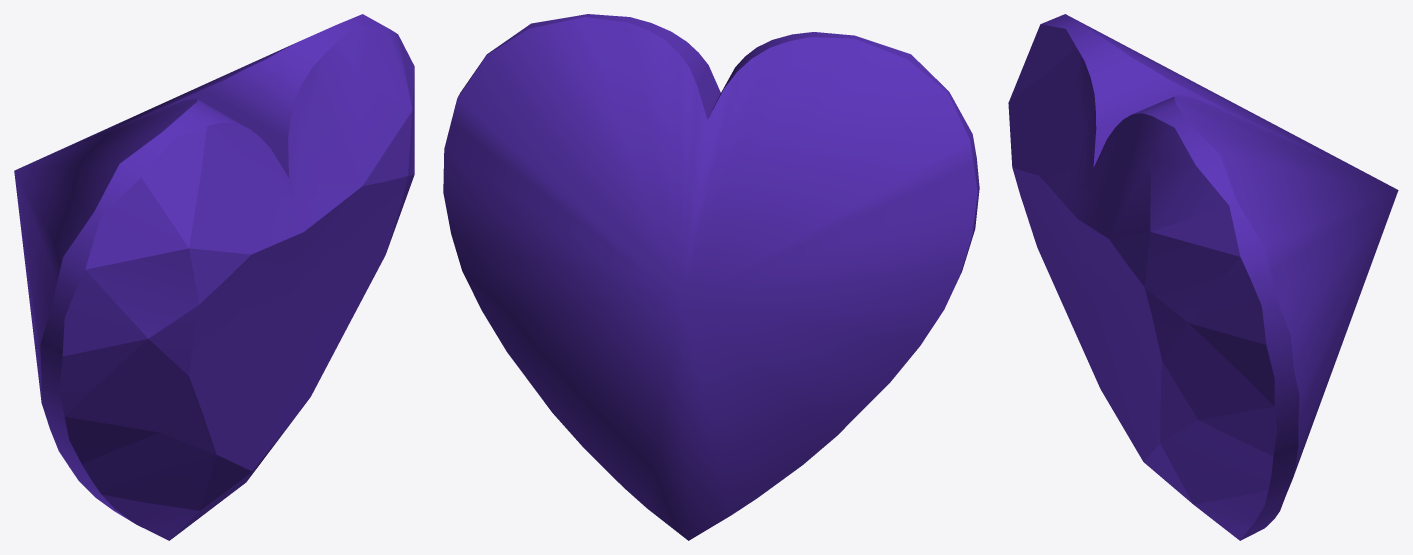
File: BR2_8shapes_heart_Classic_Stone.001 3.glb
3 views of the same model, side by side, from view 1: azimuth 30°, elevation 25°; view 2: azimuth 150°, elevation 25°; view 3: azimuth 270°, elevation 25° (orthographic). The views are drawn at different scales.
Parts seen in each view (by area): view 1: BR2_8shapes_heart_Classic_Stone.001; view 2: BR2_8shapes_heart_Classic_Stone.001; view 3: BR2_8shapes_heart_Classic_Stone.001.
Boxes of the visible parts, bbox=[...] form: BR2_8shapes_heart_Classic_Stone.001: bbox=[14, 14, 414, 540]; BR2_8shapes_heart_Classic_Stone.001: bbox=[443, 14, 979, 540]; BR2_8shapes_heart_Classic_Stone.001: bbox=[1008, 14, 1398, 540].
Size of the model in its own units: 0.4076 by 0.4203 by 0.3072.
